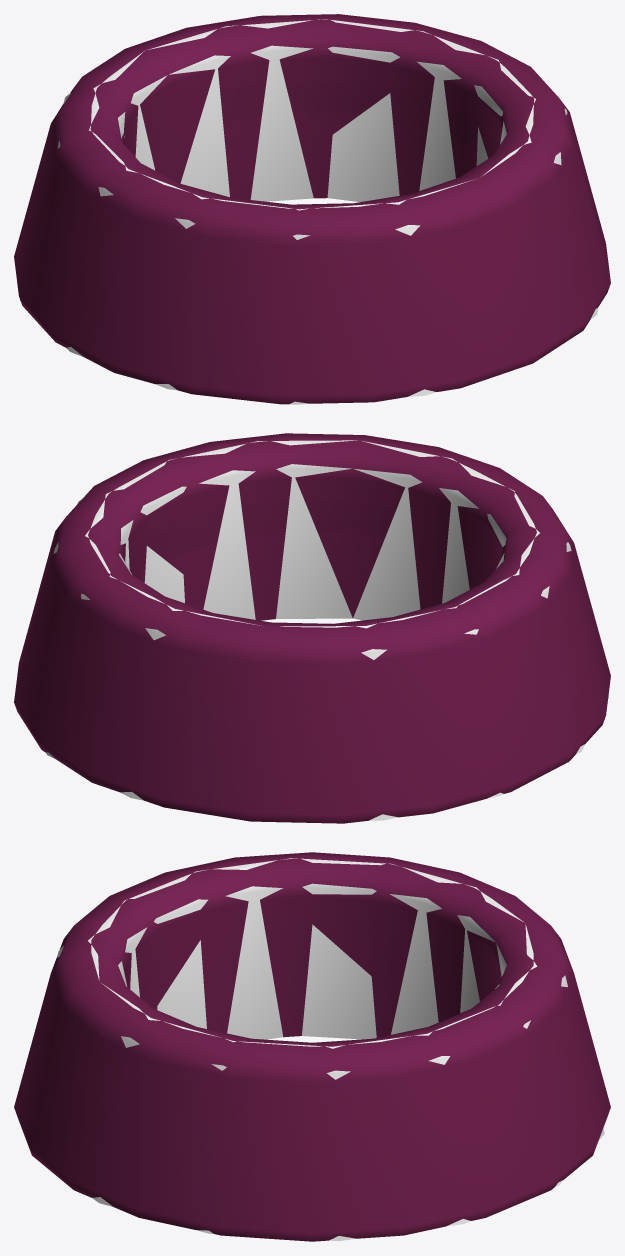
File: objects_un_t03gym_ballstand01.gltf
The picture shows the model from 3 angles, top to bottom: view 1: azimuth 30°, elevation 25°; view 2: azimuth 150°, elevation 25°; view 3: azimuth 270°, elevation 25°; orthographic projection.
Visible parts, largest first — view 1: um_objects_un_t03gym_ballstand01_model_lod0Shape:objects_un_ (×2); view 2: um_objects_un_t03gym_ballstand01_model_lod0Shape:objects_un_ (×2); view 3: um_objects_un_t03gym_ballstand01_model_lod0Shape:objects_un_ (×2).
Part boxes in pixels (x1,y1,x2,y2): um_objects_un_t03gym_ballstand01_model_lod0Shape:objects_un_ (×2): (14, 14, 610, 404); um_objects_un_t03gym_ballstand01_model_lod0Shape:objects_un_ (×2): (14, 433, 610, 823); um_objects_un_t03gym_ballstand01_model_lod0Shape:objects_un_ (×2): (14, 852, 610, 1241).
Size of what is drawn, in the model's own units: 1.14 by 0.3472 by 1.14.
Materials: 2 (1 with a texture image).
